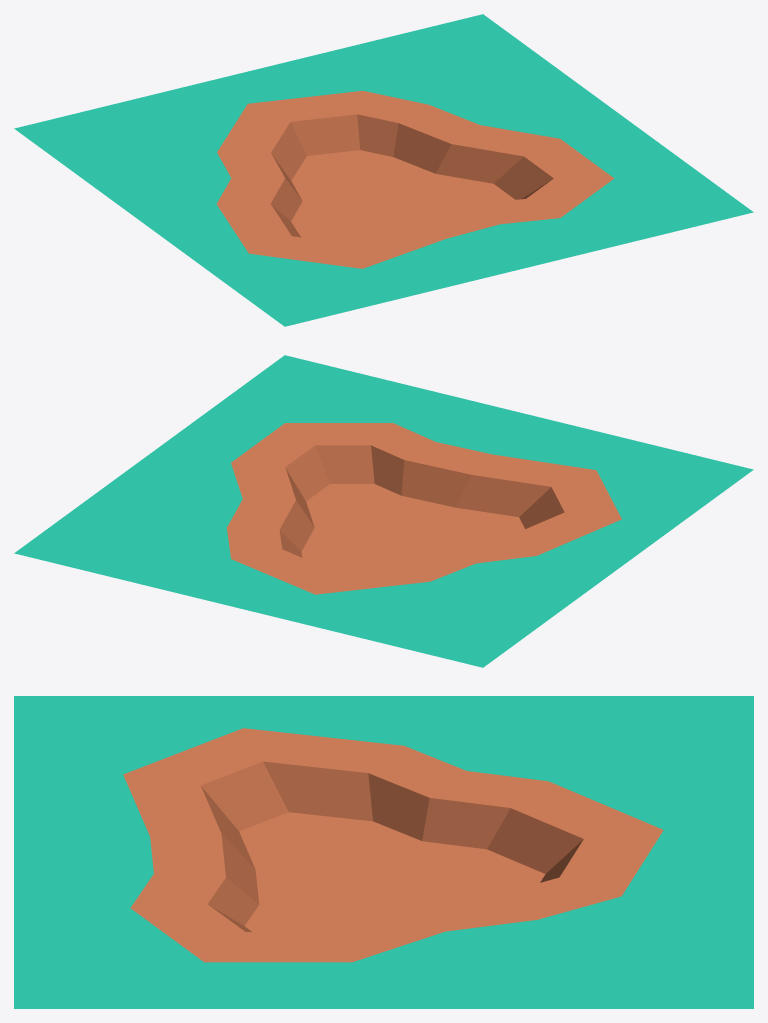
Rendered from ground_pathTile.dae.
The picture shows the model from 3 angles, top to bottom: view 1: azimuth 30°, elevation 25°; view 2: azimuth 150°, elevation 25°; view 3: azimuth 270°, elevation 25°; orthographic projection. The views are drawn at different scales.
Parts seen in each view (by area): view 1: ground_pathTile; view 2: ground_pathTile; view 3: ground_pathTile.
Boxes of the visible parts, left/top/right/bottom form: ground_pathTile: left=14, top=14, right=753, bottom=326; ground_pathTile: left=14, top=355, right=753, bottom=667; ground_pathTile: left=14, top=696, right=753, bottom=1008.
Size of the model in its own units: 1 by 0.05 by 1.
